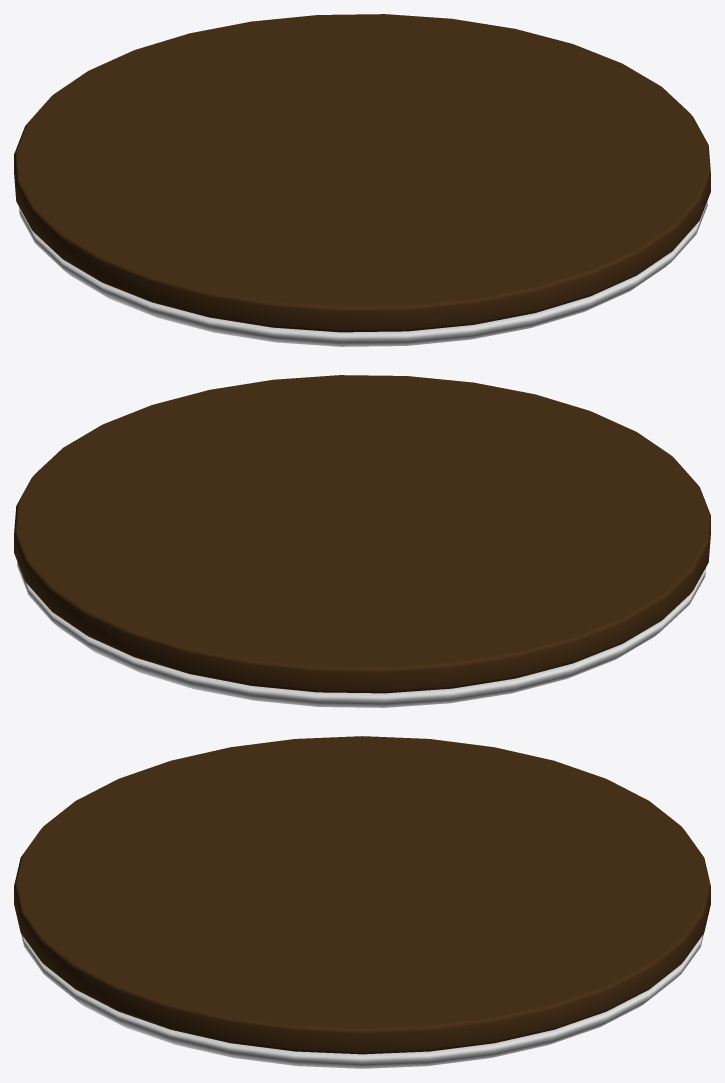
Rendered from Lamp_Ceiling_Apt_03.fbx.
3 renders of one model, top to bottom at view 1: azimuth 30°, elevation 25°; view 2: azimuth 150°, elevation 25°; view 3: azimuth 270°, elevation 25°, orthographic.
Parts seen in each view (by area): view 1: Lamp_Ceiling_Apt_03, Glow_001; view 2: Lamp_Ceiling_Apt_03, Glow_001; view 3: Lamp_Ceiling_Apt_03, Glow_001.
Boxes of the visible parts, x1,y1,x2,y2 form: Lamp_Ceiling_Apt_03: (14, 14, 710, 332); Glow_001: (19, 201, 707, 346); Lamp_Ceiling_Apt_03: (14, 375, 710, 693); Glow_001: (17, 562, 705, 707); Lamp_Ceiling_Apt_03: (14, 736, 710, 1054); Glow_001: (21, 934, 703, 1068).
Bounding box in the file's own units: 114 × 11.67 × 114.
